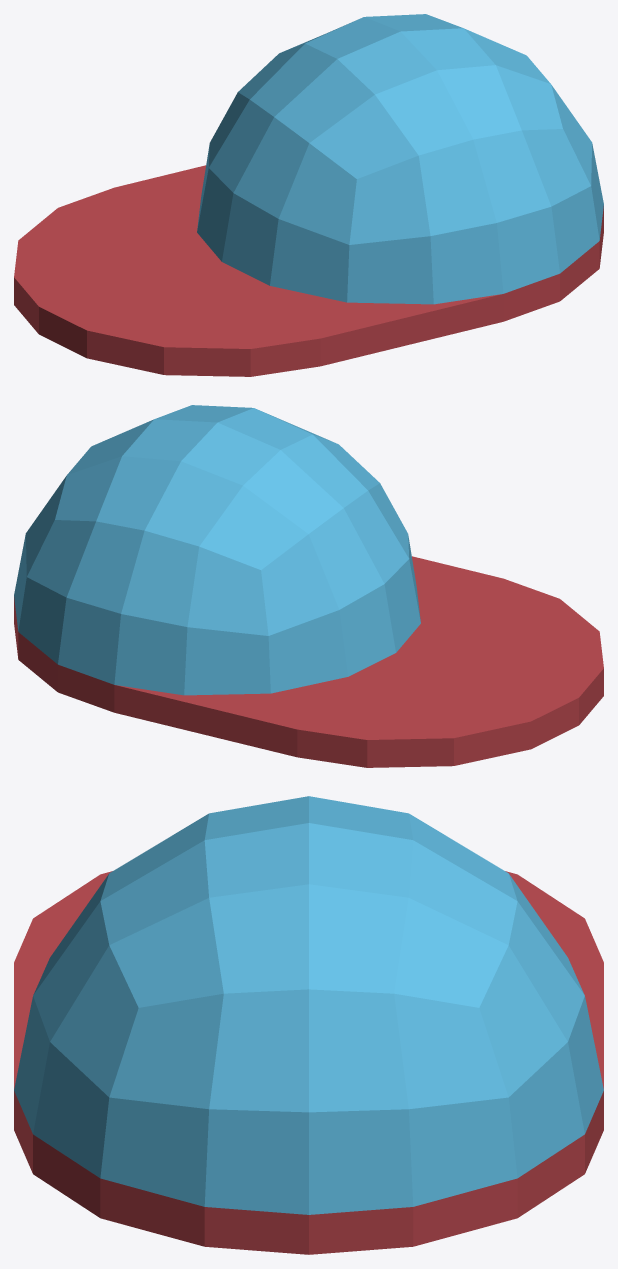
Rendered from cap.fbx.
3 views of the same model, one above another, from view 1: azimuth 30°, elevation 25°; view 2: azimuth 150°, elevation 25°; view 3: azimuth 270°, elevation 25° (orthographic). The views are drawn at different scales.
Parts seen in each view (by area): view 1: Roundcube; view 2: Roundcube; view 3: Roundcube.
Boxes of the visible parts, bbox=[...] form: Roundcube: bbox=[14, 14, 603, 376]; Roundcube: bbox=[14, 405, 603, 767]; Roundcube: bbox=[14, 796, 603, 1254].
Size of the model in its own units: 29.15 by 16.75 by 44.08.
